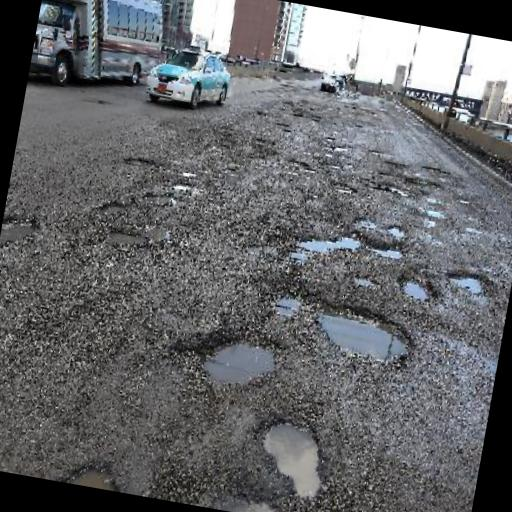pothole: (307, 293, 421, 370), (251, 410, 334, 502), (194, 324, 286, 396), (294, 222, 365, 260), (65, 450, 127, 490), (0, 208, 40, 251), (396, 268, 441, 304), (442, 264, 490, 296), (102, 222, 150, 247), (365, 238, 407, 264), (384, 220, 410, 239)
